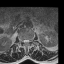CCS_normal: (25, 37, 27, 46)
LFS_normal: (29, 38, 31, 43)
LLS_normal: (27, 38, 29, 44)
RFS_normal: (21, 38, 23, 44)
RLS_normal: (23, 38, 25, 45)
